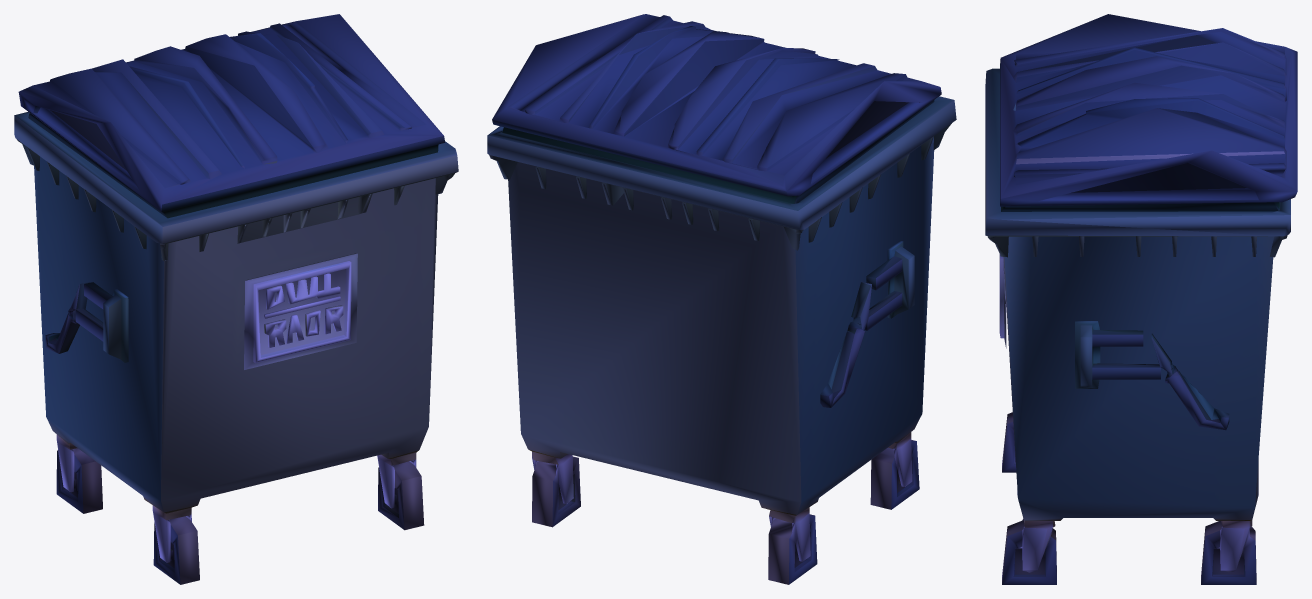
The model's file is model.progressive.glb.
3 views of the same model, side by side, from view 1: azimuth 30°, elevation 25°; view 2: azimuth 150°, elevation 25°; view 3: azimuth 270°, elevation 25° (orthographic). The views are drawn at different scales.
Visible parts, largest first — view 1: Dumpster1; view 2: Dumpster1; view 3: Dumpster1.
Boxes of the visible parts, bbox=[...] form: Dumpster1: bbox=[14, 14, 458, 584]; Dumpster1: bbox=[487, 14, 956, 584]; Dumpster1: bbox=[985, 14, 1297, 584].
Bounding box in the file's own units: 1.36 × 1.84 × 1.16.
Materials: 1 (1 with a texture image).
